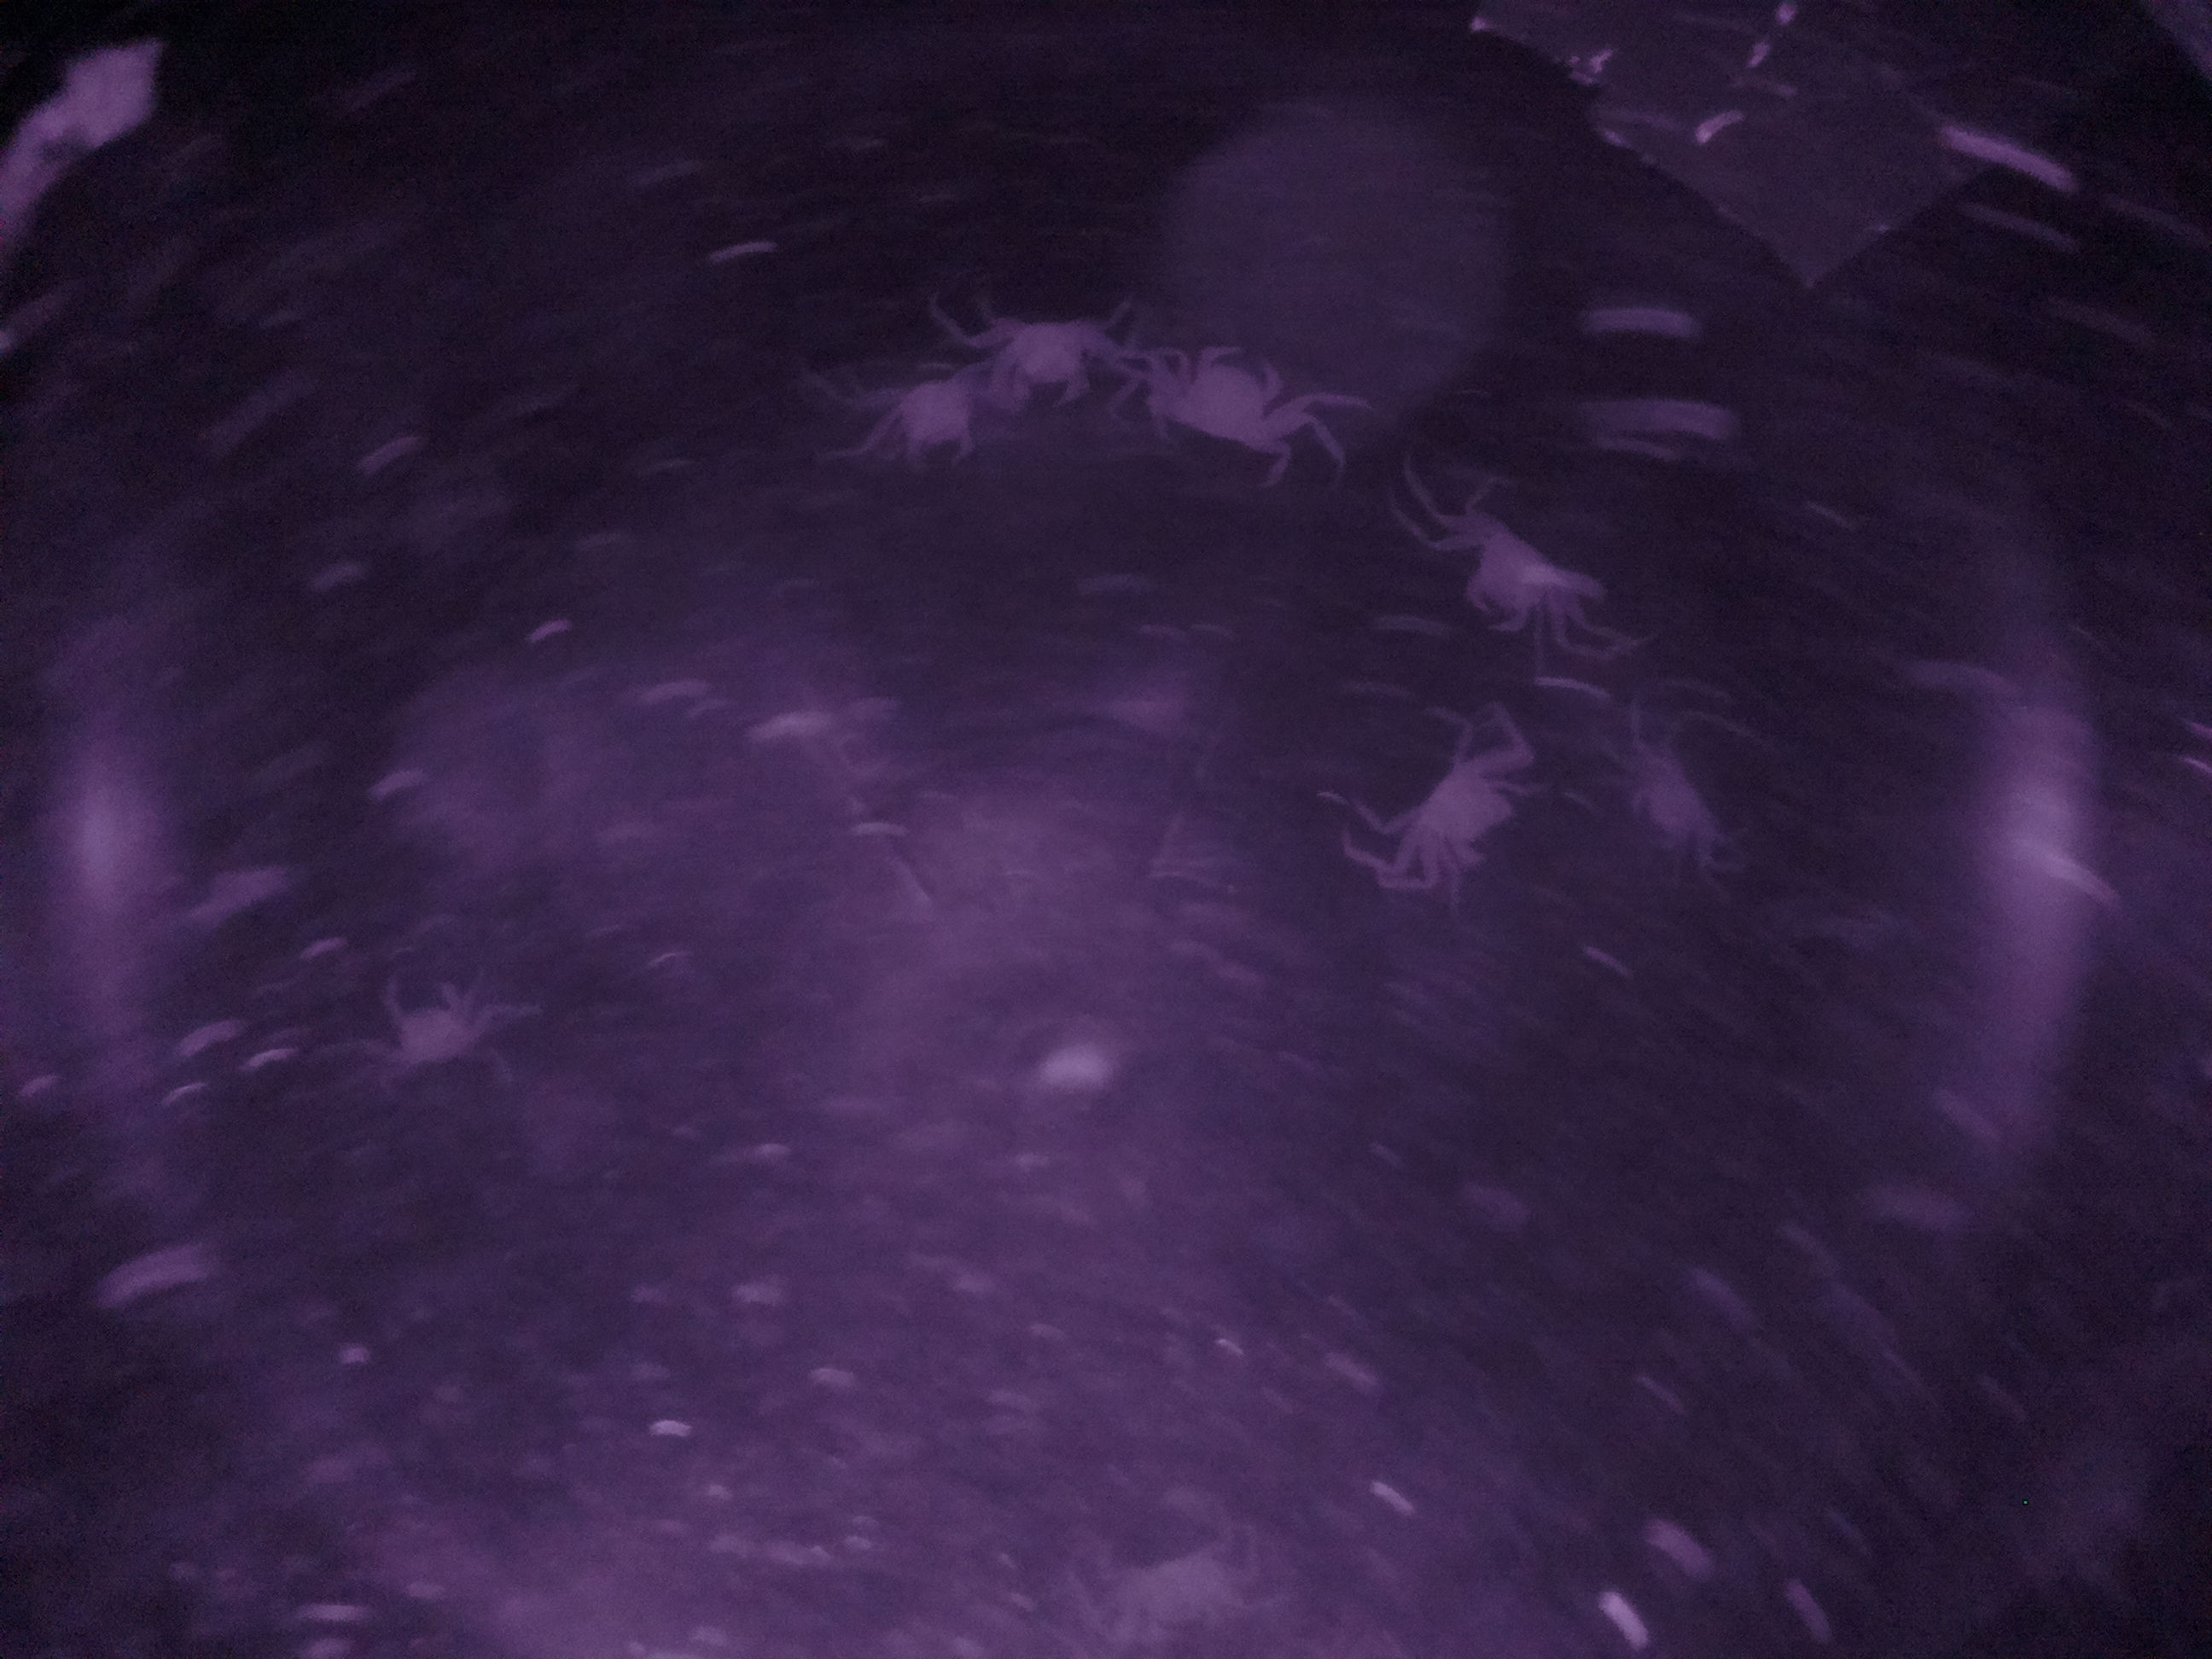Crab: (1341, 697, 1550, 913), (1393, 484, 1632, 669)
